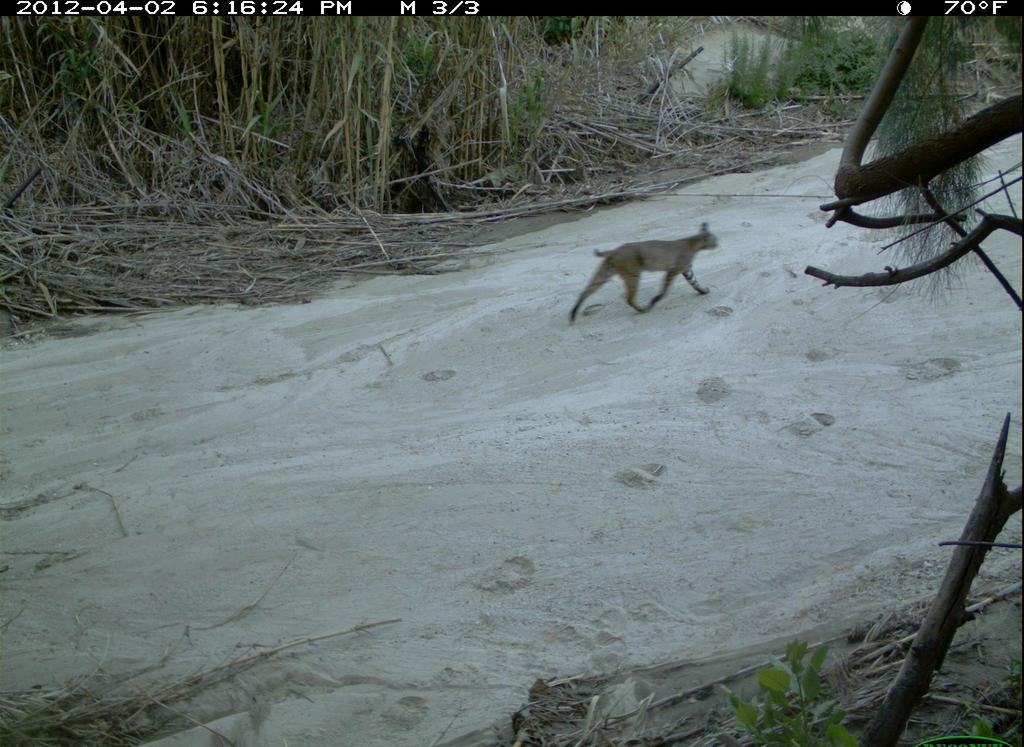bobcat: (559, 214, 729, 332)
